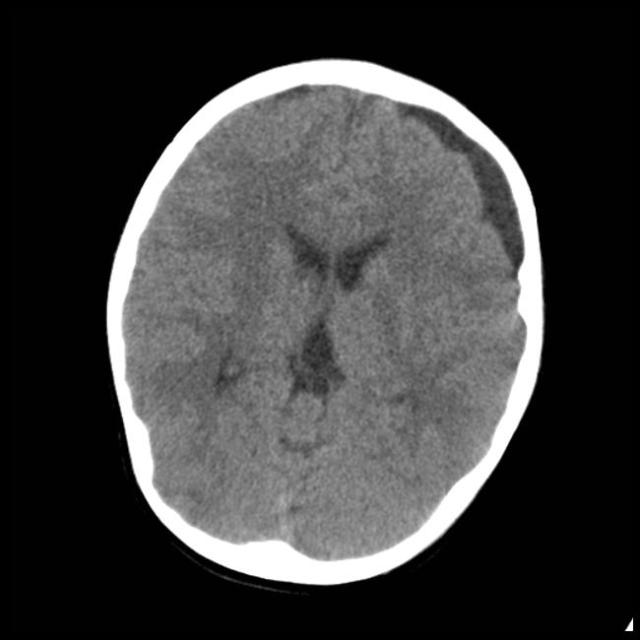lesion: (110, 70, 541, 576)
